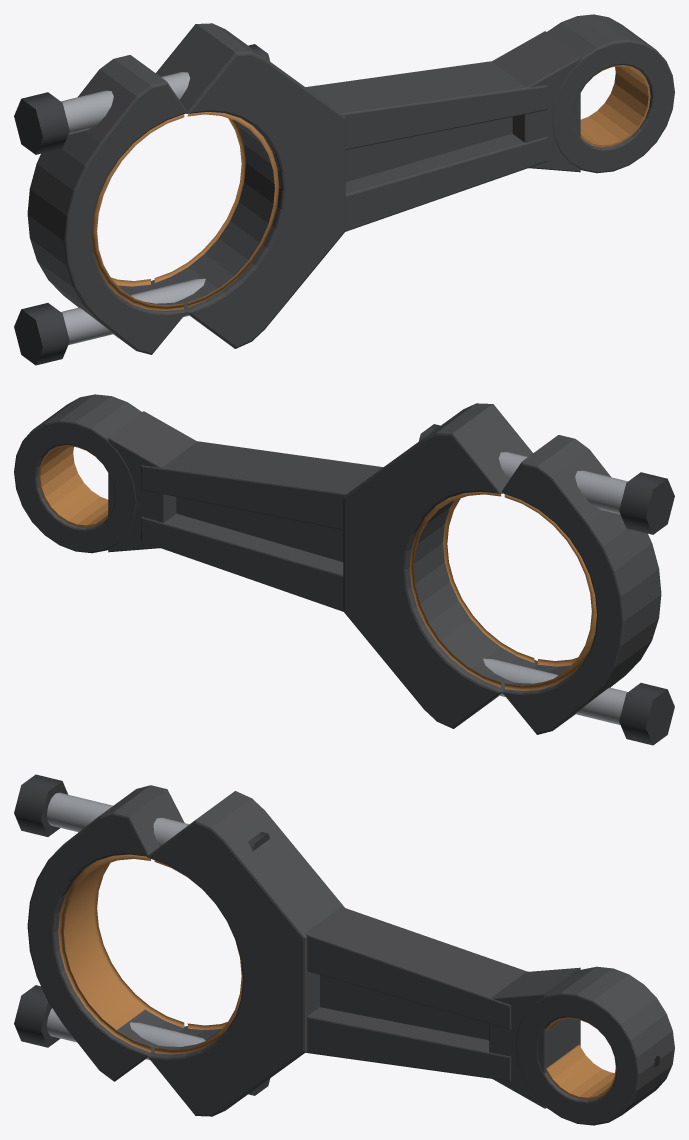
The model's file is conrod.glb.
The picture shows the model from 3 angles, top to bottom: view 1: azimuth 30°, elevation 25°; view 2: azimuth 150°, elevation 25°; view 3: azimuth 330°, elevation 25°; orthographic projection.
Visible parts, largest first — view 1: conrod:forgedDark, conrod:bronze, conrod:darkSteel, conrod:steel; view 2: conrod:forgedDark, conrod:bronze, conrod:darkSteel, conrod:steel; view 3: conrod:forgedDark, conrod:bronze, conrod:darkSteel, conrod:steel.
Boxes of the visible parts, x1,y1,x2,y2 form: conrod:forgedDark: (27,14,674,354); conrod:bronze: (92,65,650,310); conrod:darkSteel: (14,44,270,365); conrod:steel: (61,72,205,344); conrod:forgedDark: (14,394,661,734); conrod:bronze: (38,445,596,690); conrod:darkSteel: (418,424,674,745); conrod:steel: (483,452,627,724); conrod:forgedDark: (27,785,674,1125); conrod:bronze: (58,854,616,1099); conrod:darkSteel: (14,774,270,1095); conrod:steel: (47,792,205,1060).
Bounding box in the file's own units: 187 × 84.51 × 21.41.
